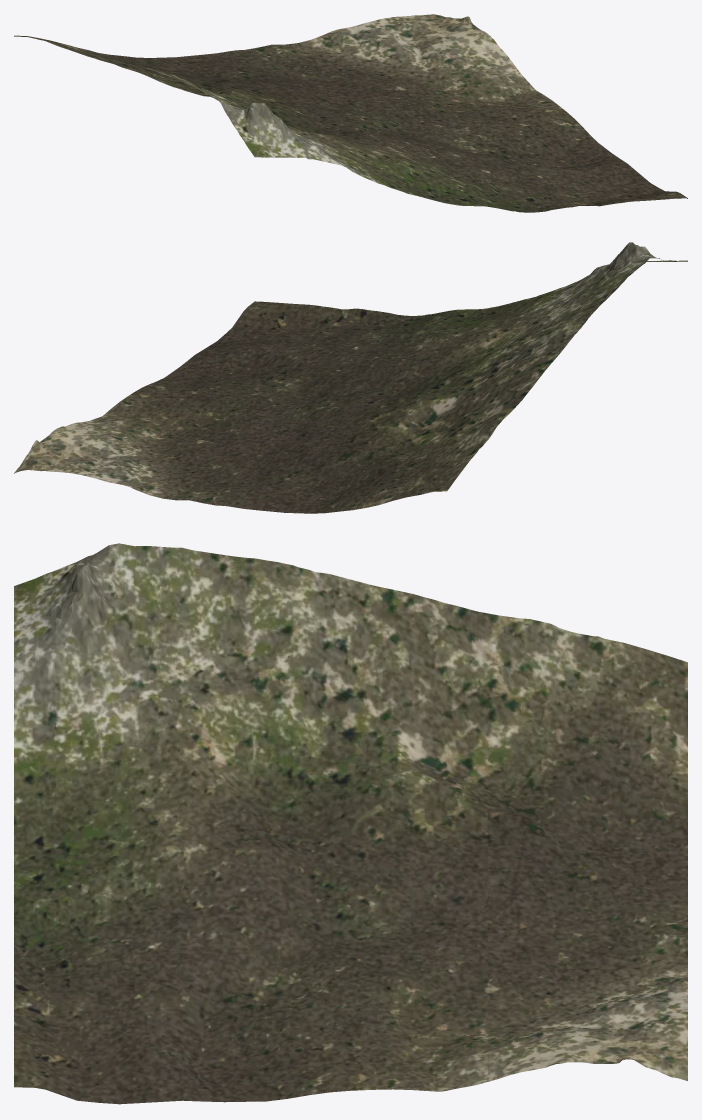
The picture shows the model from 3 angles, top to bottom: view 1: azimuth 30°, elevation 25°; view 2: azimuth 150°, elevation 25°; view 3: azimuth 270°, elevation 25°; orthographic projection. The views are drawn at different scales.
Bounding box in the file's own units: 500 × 210 × 481.
Materials: 1 (1 with a texture image).
